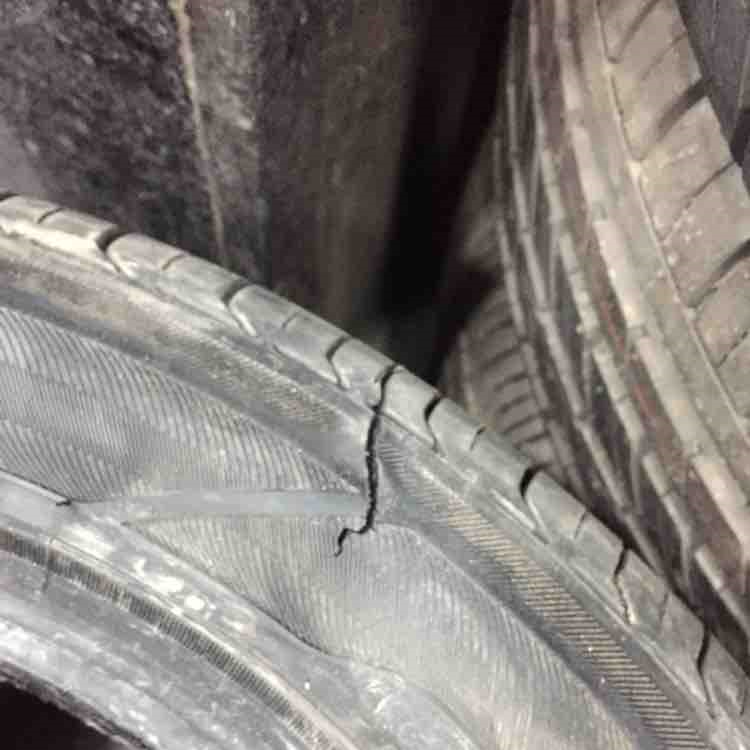cut: (336, 361, 398, 559)
